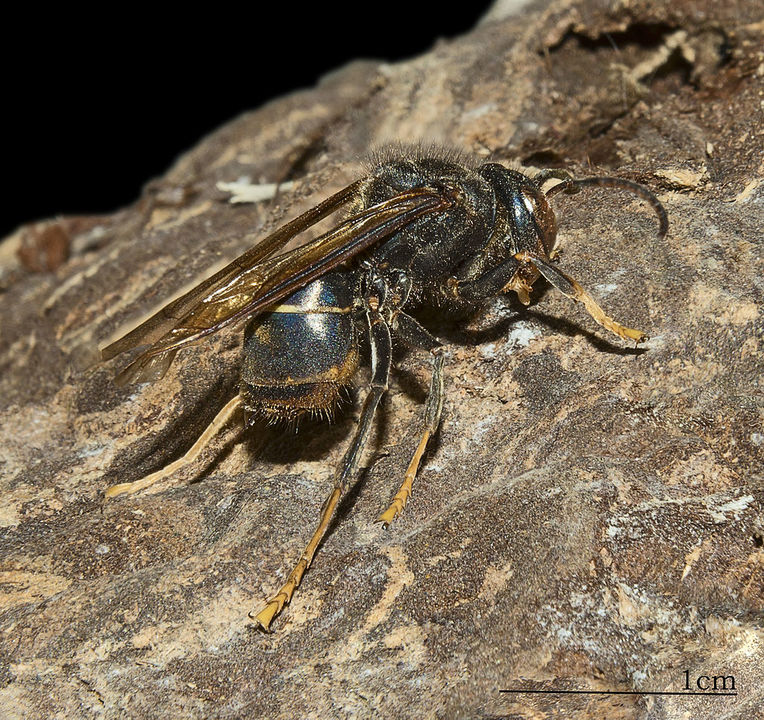hornet: (139, 155, 686, 439)
